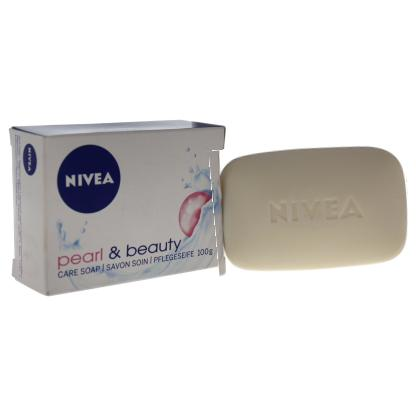soap: (211, 138, 411, 279)
